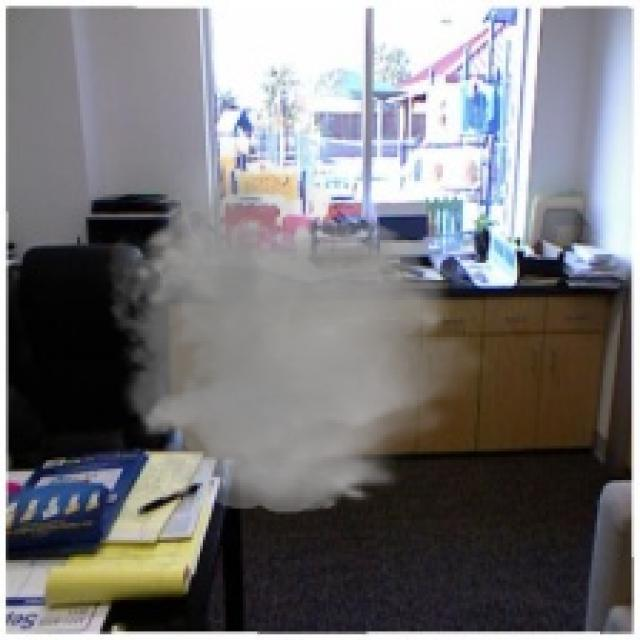Smoke: (92, 143, 497, 523)
